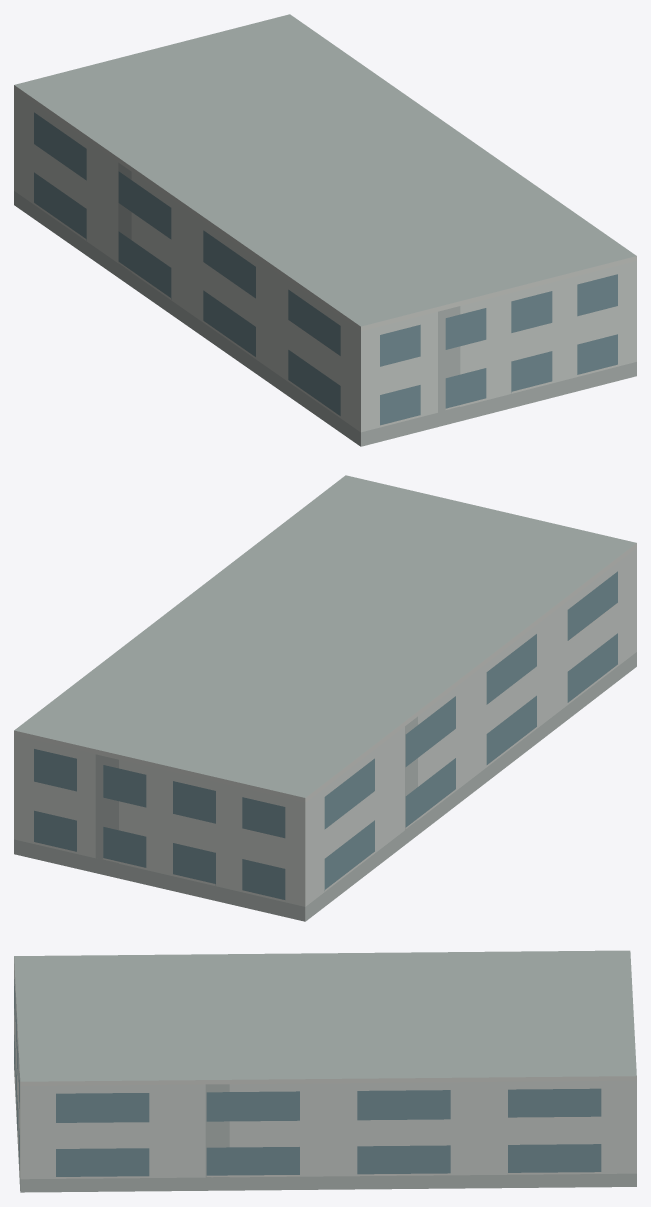
File: residential-dec01f17-9cb5-43ba-84cf-c278732b717c.glb
3 views of the same model, one above another, from view 1: azimuth 30°, elevation 25°; view 2: azimuth 150°, elevation 25°; view 3: azimuth 270°, elevation 25° (orthographic). The views are drawn at different scales.
Visible parts, largest first — view 1: residential-dec01f17-9cb5-43ba-84cf-c278732b717c.tmp; view 2: residential-dec01f17-9cb5-43ba-84cf-c278732b717c.tmp; view 3: residential-dec01f17-9cb5-43ba-84cf-c278732b717c.tmp.
Boxes of the visible parts, x1,y1,x2,y2 form: residential-dec01f17-9cb5-43ba-84cf-c278732b717c.tmp: (14, 14, 636, 446); residential-dec01f17-9cb5-43ba-84cf-c278732b717c.tmp: (14, 475, 636, 921); residential-dec01f17-9cb5-43ba-84cf-c278732b717c.tmp: (14, 950, 636, 1192).
Bounding box in the file's own units: 15.52 × 6.1 × 31.1.
